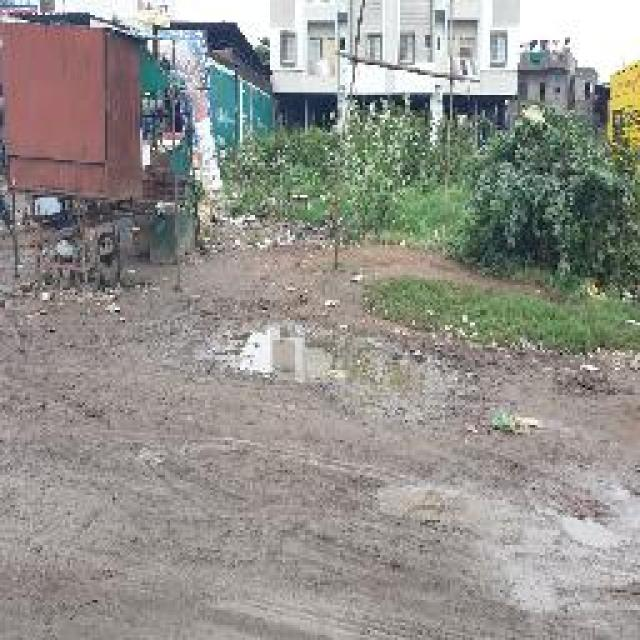waterlogging: (239, 322, 348, 386)
